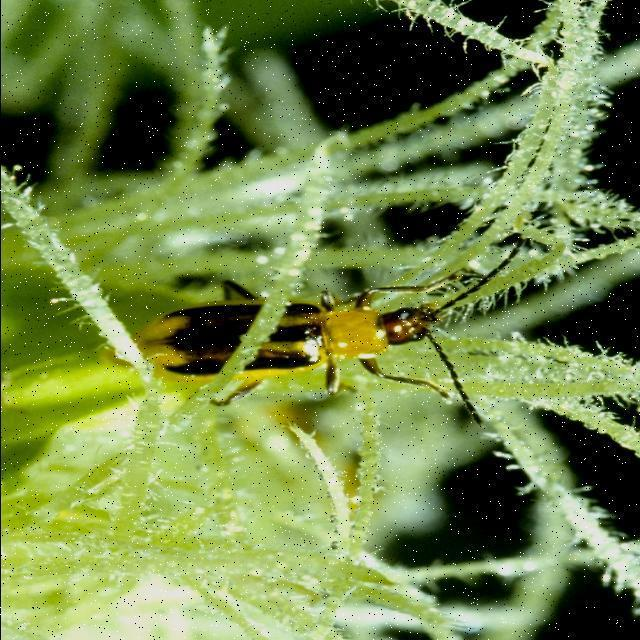trips: (142, 234, 521, 426)
